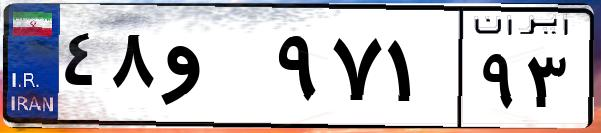1: (385, 28, 445, 110)
3: (525, 38, 570, 115)
4: (57, 26, 110, 100)
7: (330, 28, 385, 110)
8: (110, 28, 158, 98)
9: (270, 28, 330, 110), (475, 38, 525, 113)
و: (158, 20, 270, 120)
